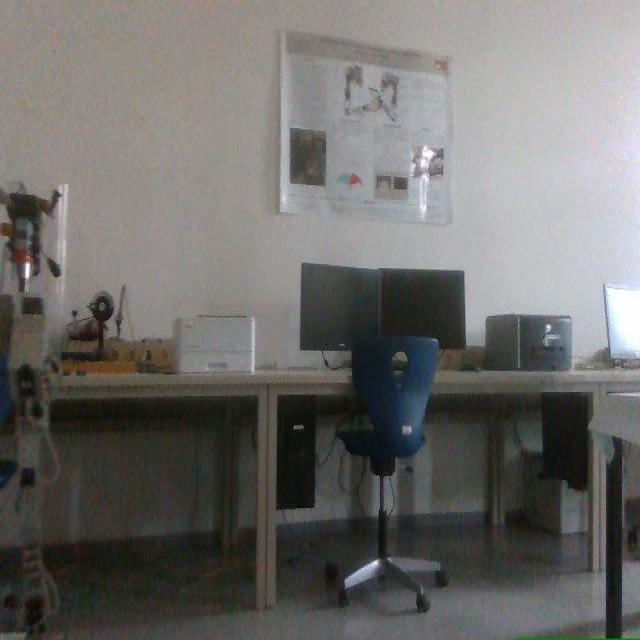objects: (338, 338, 446, 611), (380, 269, 465, 348), (300, 263, 376, 349), (0, 356, 10, 425)
